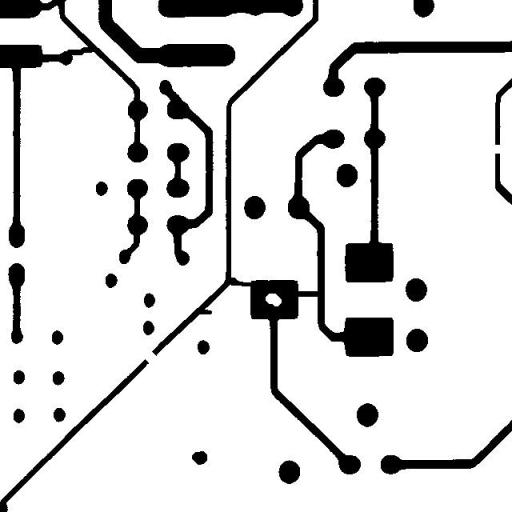copper: (184, 443, 214, 472)
open: (483, 137, 511, 161), (138, 344, 163, 370)
pin-hole: (258, 286, 288, 314)
short: (220, 270, 262, 294), (58, 40, 101, 62), (289, 283, 326, 304)
spur: (191, 302, 219, 322)
